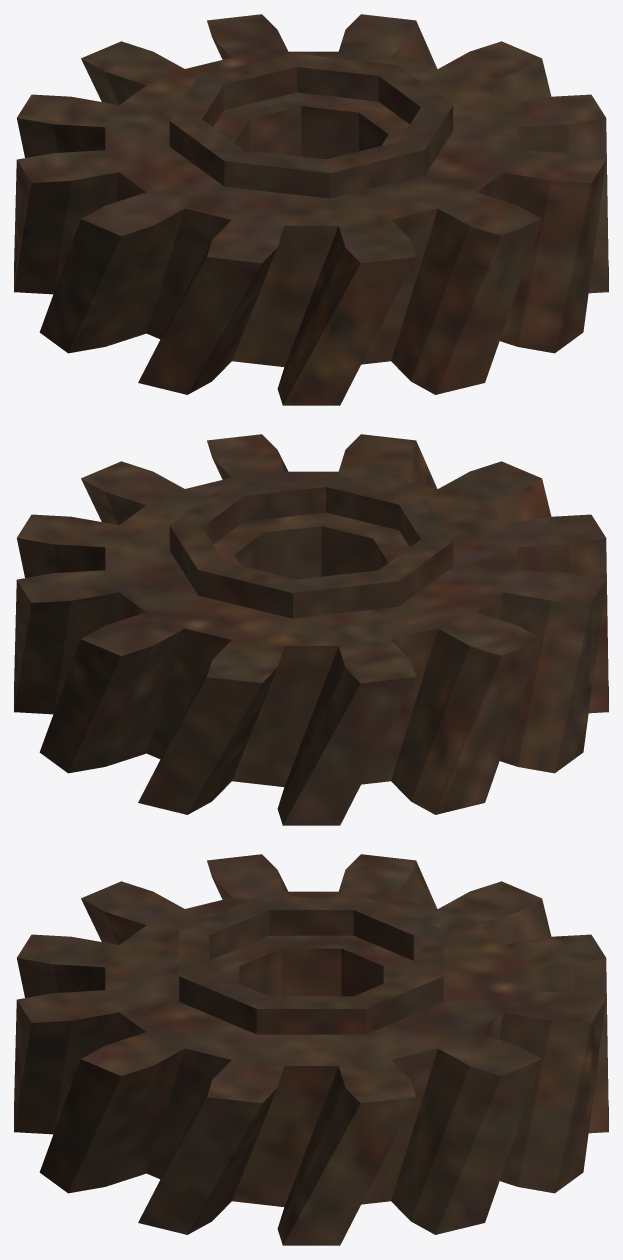
The model's file is gear_mx_5.obj.
The picture shows the model from 3 angles, top to bottom: view 1: azimuth 30°, elevation 25°; view 2: azimuth 150°, elevation 25°; view 3: azimuth 270°, elevation 25°; orthographic projection.
Parts seen in each view (by area): view 1: gear_mx_5; view 2: gear_mx_5; view 3: gear_mx_5.
Part boxes in pixels (left/top/right/bottom): gear_mx_5: left=14, top=14, right=608, bottom=405; gear_mx_5: left=14, top=434, right=608, bottom=825; gear_mx_5: left=14, top=854, right=608, bottom=1245.
Size of the model in its own units: 0.1055 by 0.0376 by 0.1055.
